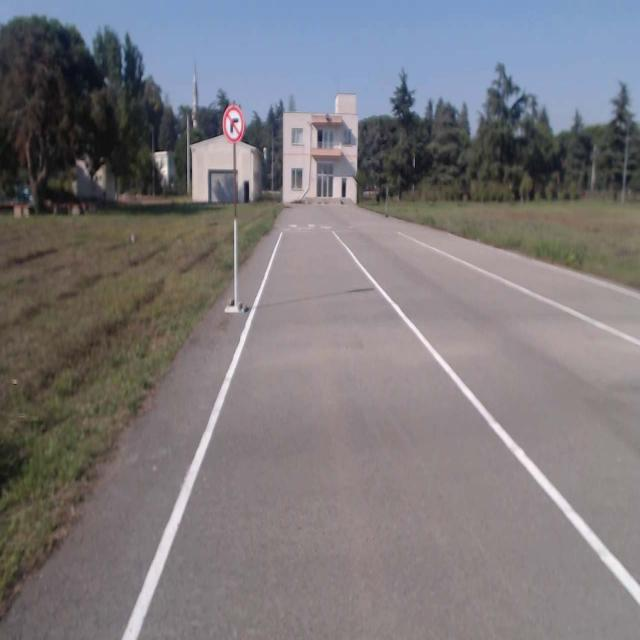sagadonulmez: (222, 106, 244, 141)
